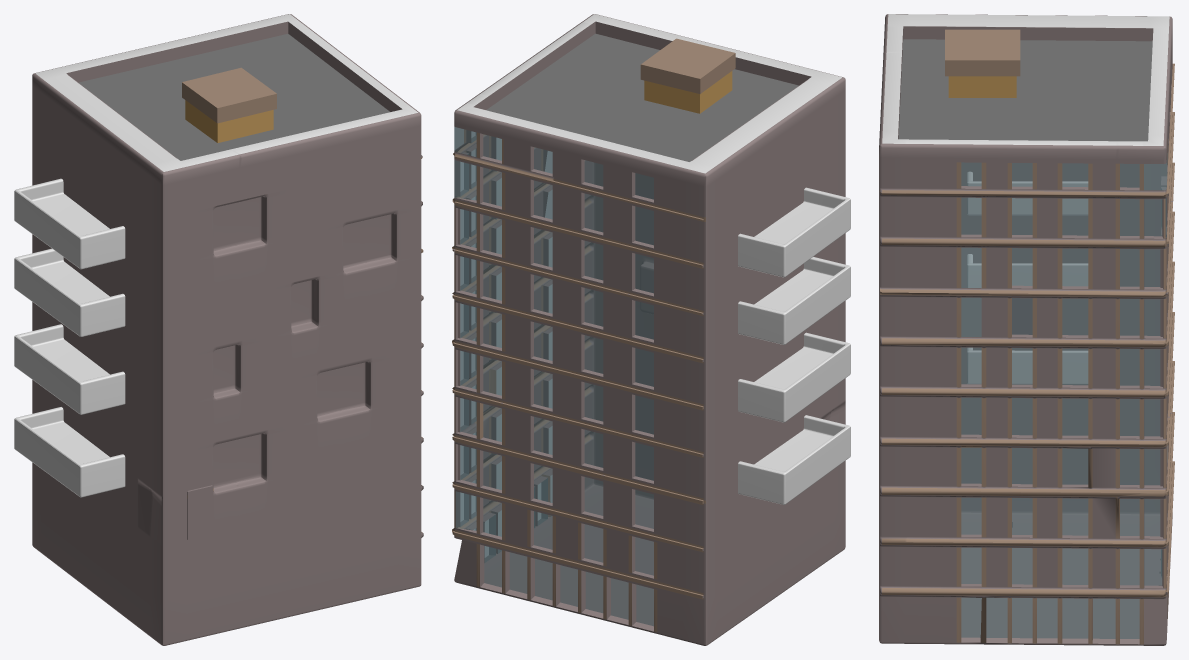
Rendered from building 2.fbx.
The picture shows the model from 3 angles, left to right: view 1: azimuth 30°, elevation 25°; view 2: azimuth 150°, elevation 25°; view 3: azimuth 270°, elevation 25°; orthographic projection. The views are drawn at different scales.
Parts seen in each view (by area): view 1: pasted__pasted__group33_pasted__pasted__pPlane12, pasted__pCube28, pasted__pasted__pasted__pCube28, pasted__pasted__pasted__pasted__pCube28, pasted__pasted__pCube28, pasted__pasted__pasted__pasted__pCube9, pasted__pasted__pasted__pCube9; view 2: pasted__pasted__group33_pasted__pasted__pPlane12, pasted__pasted__pasted__pasted__pCube28, pasted__pasted__pasted__pCube28, pasted__pCube28, pasted__pasted__pCube28, pasted__pasted__pasted__pasted__pCube9, pasted__pasted__pasted__pCube9; view 3: pasted__pasted__group33_pasted__pasted__pPlane12, pasted__pasted__pasted__pasted__pCube9, pasted__pasted__pasted__pasted__pCube28, pasted__pasted__pasted__pCube9, pasted__pasted__pasted__pCube28, pasted__pasted__pCube28.
Part boxes in pixels (x1,y1,x2,y2): pasted__pasted__group33_pasted__pasted__pPlane12: [32, 14, 423, 645]; pasted__pCube28: [14, 178, 125, 269]; pasted__pasted__pasted__pCube28: [14, 324, 125, 414]; pasted__pasted__pasted__pasted__pCube28: [14, 407, 125, 497]; pasted__pasted__pCube28: [14, 248, 125, 336]; pasted__pasted__pasted__pasted__pCube9: [182, 67, 276, 123]; pasted__pasted__pasted__pCube9: [185, 100, 273, 142]; pasted__pasted__group33_pasted__pasted__pPlane12: [452, 14, 845, 645]; pasted__pasted__pasted__pasted__pCube28: [738, 415, 850, 504]; pasted__pasted__pasted__pCube28: [738, 332, 850, 422]; pasted__pCube28: [738, 187, 850, 277]; pasted__pasted__pCube28: [738, 256, 850, 344]; pasted__pasted__pasted__pasted__pCube9: [640, 38, 735, 93]; pasted__pasted__pasted__pCube9: [644, 71, 732, 113]; pasted__pasted__group33_pasted__pasted__pPlane12: [879, 14, 1174, 645]; pasted__pasted__pasted__pasted__pCube9: [945, 29, 1020, 76]; pasted__pasted__pasted__pasted__pCube28: [967, 348, 1087, 384]; pasted__pasted__pasted__pCube9: [948, 76, 1016, 97]; pasted__pasted__pasted__pCube28: [967, 254, 1087, 287]; pasted__pasted__pCube28: [967, 172, 1087, 215].
Size of the model in its own units: 1.36 by 2.11 by 1.08.
